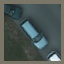car: (20, 19, 48, 50)
